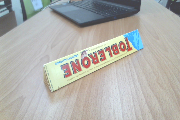Chocolate: (35, 25, 150, 96)
